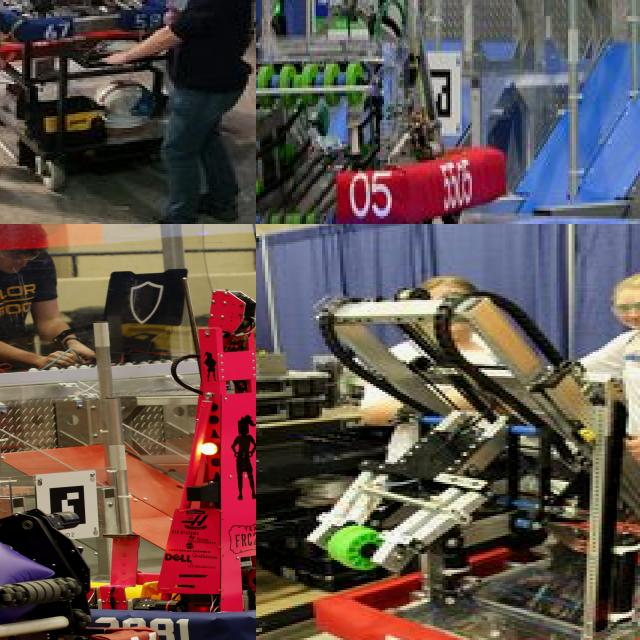FRC-Robots: (256, 274, 640, 640), (256, 0, 536, 224), (110, 288, 256, 640), (0, 452, 126, 640), (0, 0, 183, 63)
